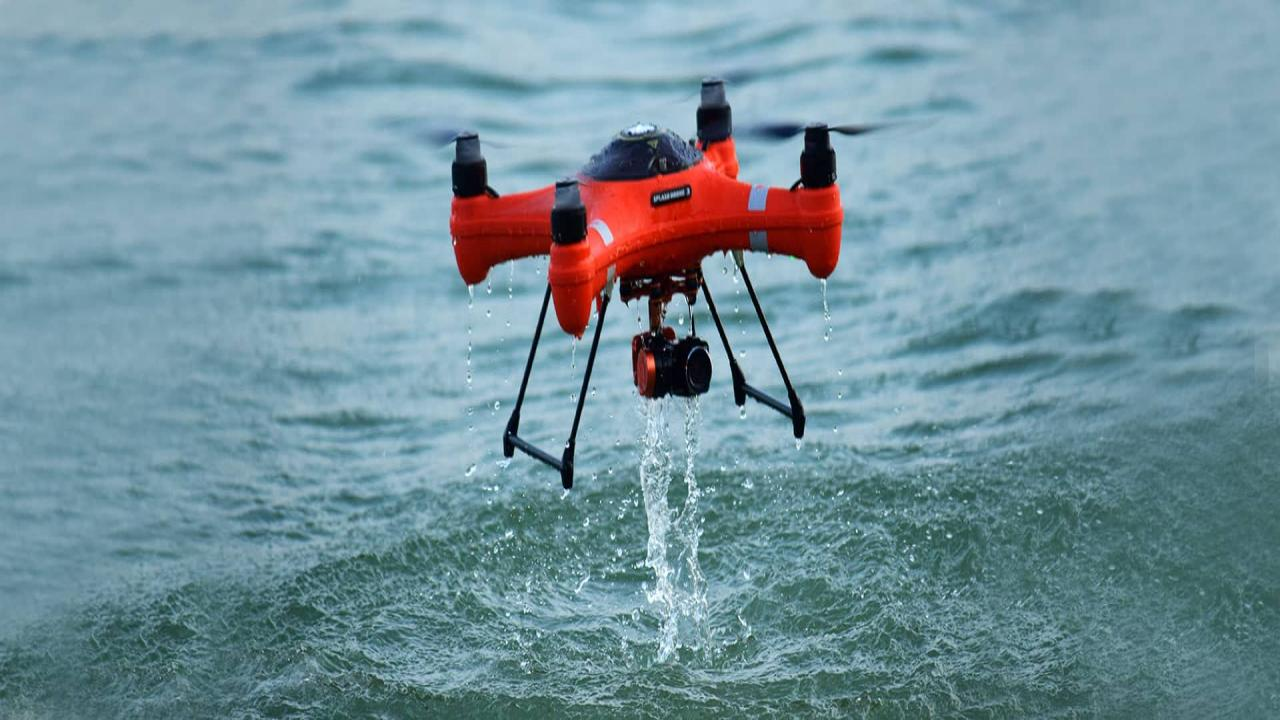Drone: (404, 55, 921, 504)
